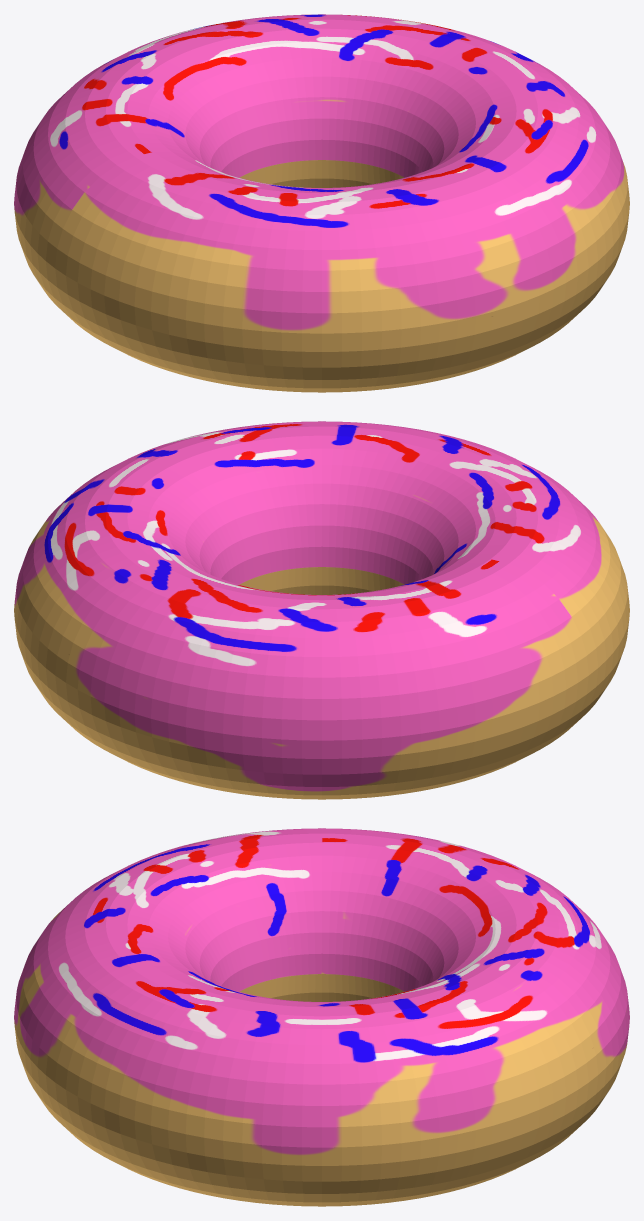
The model's file is donut sucrée au sucre.glb.
3 views of the same model, one above another, from view 1: azimuth 30°, elevation 25°; view 2: azimuth 150°, elevation 25°; view 3: azimuth 270°, elevation 25° (orthographic).
Parts seen in each view (by area): view 1: Torus; view 2: Torus; view 3: Torus.
Part boxes in pixels (x1=…): Torus: x1=14, y1=14, x2=629, y2=392; Torus: x1=14, y1=421, x2=629, y2=799; Torus: x1=14, y1=828, x2=629, y2=1206.
Bounding box in the file's own units: 9 × 2.98 × 9.
1 material, 1 textured.
